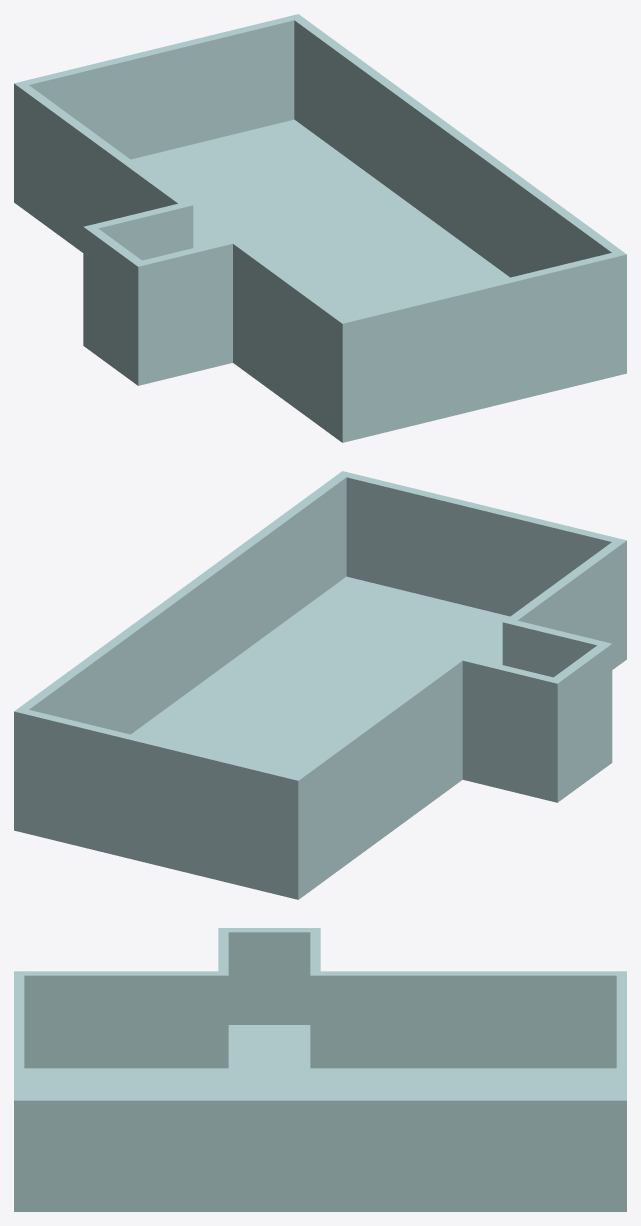
The model's file is Wohnzimmer_Kuche.fbx.
3 renders of one model, top to bottom at view 1: azimuth 30°, elevation 25°; view 2: azimuth 150°, elevation 25°; view 3: azimuth 270°, elevation 25°, orthographic. The views are drawn at different scales.
Parts seen in each view (by area): view 1: Wohnzimmer_Kucheboden, Wohnzimmer_Kuchewand1, Wohnzimmer_Kuchewand2, Wohnzimmer_Kuchewand3, Wohnzimmer_Kuchewand4, Wohnzimmer_Kuchewand8, Wohnzimmer_Kuchewand7, Wohnzimmer_Kuchewand6, Wohnzimmer_Kuchewand5; view 2: Wohnzimmer_Kucheboden, Wohnzimmer_Kuchewand3, Wohnzimmer_Kuchewand2, Wohnzimmer_Kuchewand1, Wohnzimmer_Kuchewand4, Wohnzimmer_Kuchewand5, Wohnzimmer_Kuchewand8, Wohnzimmer_Kuchewand6, Wohnzimmer_Kuchewand7; view 3: Wohnzimmer_Kuchewand2, Wohnzimmer_Kucheboden, Wohnzimmer_Kuchewand4, Wohnzimmer_Kuchewand8, Wohnzimmer_Kuchewand6, Wohnzimmer_Kuchewand1, Wohnzimmer_Kuchewand3, Wohnzimmer_Kuchewand7, Wohnzimmer_Kuchewand5.
Part boxes in pixels (x1,y1,x2,y2): Wohnzimmer_Kucheboden: [14, 119, 626, 442]; Wohnzimmer_Kuchewand1: [342, 253, 626, 422]; Wohnzimmer_Kuchewand2: [294, 14, 626, 277]; Wohnzimmer_Kuchewand3: [15, 14, 298, 159]; Wohnzimmer_Kuchewand4: [14, 83, 192, 232]; Wohnzimmer_Kuchewand8: [233, 237, 346, 422]; Wohnzimmer_Kuchewand7: [138, 237, 236, 365]; Wohnzimmer_Kuchewand6: [83, 227, 141, 365]; Wohnzimmer_Kuchewand5: [84, 203, 193, 260]; Wohnzimmer_Kucheboden: [14, 576, 626, 899]; Wohnzimmer_Kuchewand3: [14, 710, 298, 879]; Wohnzimmer_Kuchewand2: [14, 471, 346, 734]; Wohnzimmer_Kuchewand1: [342, 471, 625, 616]; Wohnzimmer_Kuchewand4: [294, 654, 462, 879]; Wohnzimmer_Kuchewand5: [459, 654, 557, 782]; Wohnzimmer_Kuchewand8: [503, 540, 626, 649]; Wohnzimmer_Kuchewand6: [553, 643, 612, 782]; Wohnzimmer_Kuchewand7: [502, 620, 611, 677]; Wohnzimmer_Kuchewand2: [14, 1096, 626, 1193]; Wohnzimmer_Kucheboden: [14, 1025, 626, 1211]; Wohnzimmer_Kuchewand4: [310, 971, 625, 1068]; Wohnzimmer_Kuchewand8: [15, 971, 228, 1068]; Wohnzimmer_Kuchewand6: [219, 928, 319, 1024]; Wohnzimmer_Kuchewand1: [14, 971, 24, 1100]; Wohnzimmer_Kuchewand3: [616, 971, 626, 1100]; Wohnzimmer_Kuchewand7: [218, 928, 228, 975]; Wohnzimmer_Kuchewand5: [310, 928, 320, 975].
Size of the model in its own units: 4 by 1.2 by 6.
